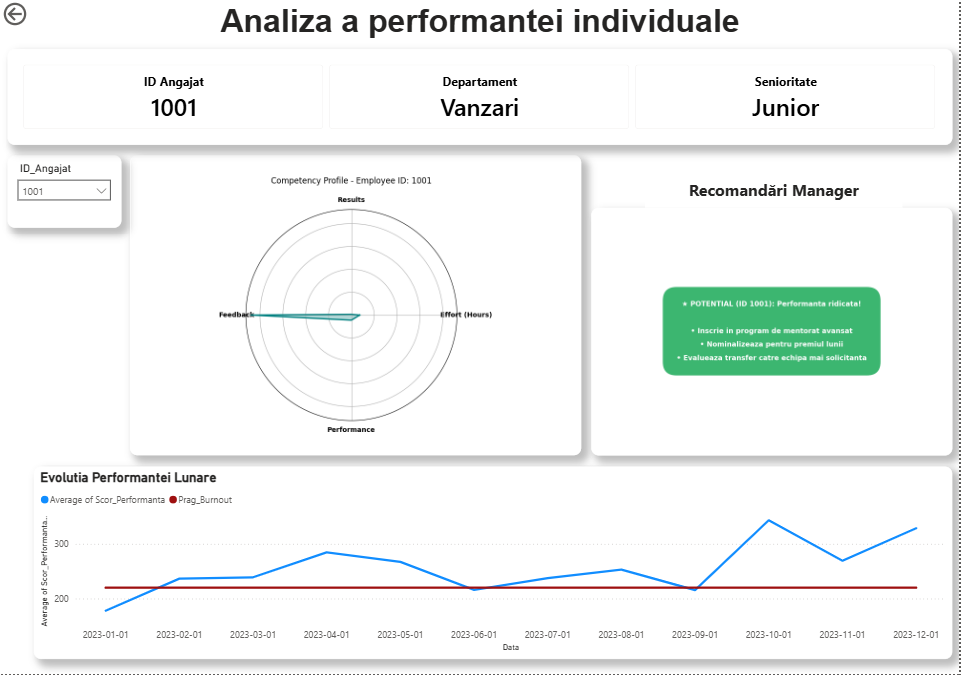

The dashboard page shown, as its layout file describes it:
{"tool":"powerbi","page":{"name":"Analiza performantei individuale","canvas":[1280,900],"ordinal":12},"visuals":[{"type":"slicer","fields":{"Values":["date_angajati.ID_Angajat"]},"box":[10,208.3,151.7,96.7],"z":0},{"type":"pythonVisual","fields":{"Values":["date_angajati.ID_Angajat","date_angajati.Ore_Lucrate","date_angajati.Proiecte_Finalizate","date_angajati.Feedback_Clienti","date_angajati.Scor_Performanta"]},"box":[173.3,208.3,601.7,400],"z":1000},{"type":"pythonVisual","fields":{"Values":["date_angajati.ID_Angajat","date_angajati.Status_Risc","date_angajati.Scor_Performanta","date_angajati.Senioritate","date_angajati.Ore_Lucrate","date_angajati.Feedback_Clienti","date_angajati.Proiecte_Finalizate","date_angajati.Training_Ore"]},"box":[788.3,278.3,481.7,330],"z":2000},{"type":"textbox","box":[10,0,1260,66.2],"z":3000},{"type":"lineChart","title":"Evolutia Performantei Lunare","fields":{"Category":["date_angajati.Data.Variation.Date Hierarchy.Month"],"Y":["Avg(date_angajati.Scor_Performanta)","date_angajati.Prag_Burnout"]},"box":[45,623.3,1225,256.7],"z":4000},{"type":"textbox","box":[860,235,343.3,43.3],"z":5000},{"type":"cardVisual","fields":{"Data":["Min(date_angajati.ID_Angajat)","Min(date_angajati.Departament)","Min(date_angajati.Senioritate)"]},"box":[10,66.7,1260,128.3],"z":6000},{"type":"actionButton","box":[0,0,100,40],"z":7000}]}

Visuals, with their boxes in screenshot pixels (x1, y1, x2, y2), scaled from the page's 1280x900 canvas onto the 962x677 screenshot:
slicer - date_angajati.ID_Angajat: region(8, 157, 122, 229)
pythonVisual - date_angajati.ID_Angajat x date_angajati.Ore_Lucrate: region(130, 157, 582, 458)
pythonVisual - date_angajati.ID_Angajat x date_angajati.Status_Risc: region(592, 209, 954, 458)
textbox: region(8, 0, 954, 50)
"Evolutia Performantei Lunare" lineChart: region(34, 469, 954, 662)
textbox: region(646, 177, 904, 209)
cardVisual - Min(date_angajati.ID_Angajat) x Min(date_angajati.Departament): region(8, 50, 954, 147)
actionButton: region(0, 0, 75, 30)
